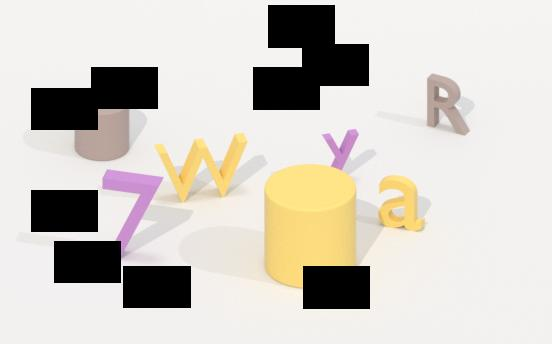7: (94, 167, 166, 263)
R-hoa: (422, 69, 471, 140)
Y: (320, 127, 362, 174)
a: (375, 173, 427, 235)
tru: (261, 161, 357, 292), (72, 84, 136, 164)
w: (142, 134, 250, 203)
